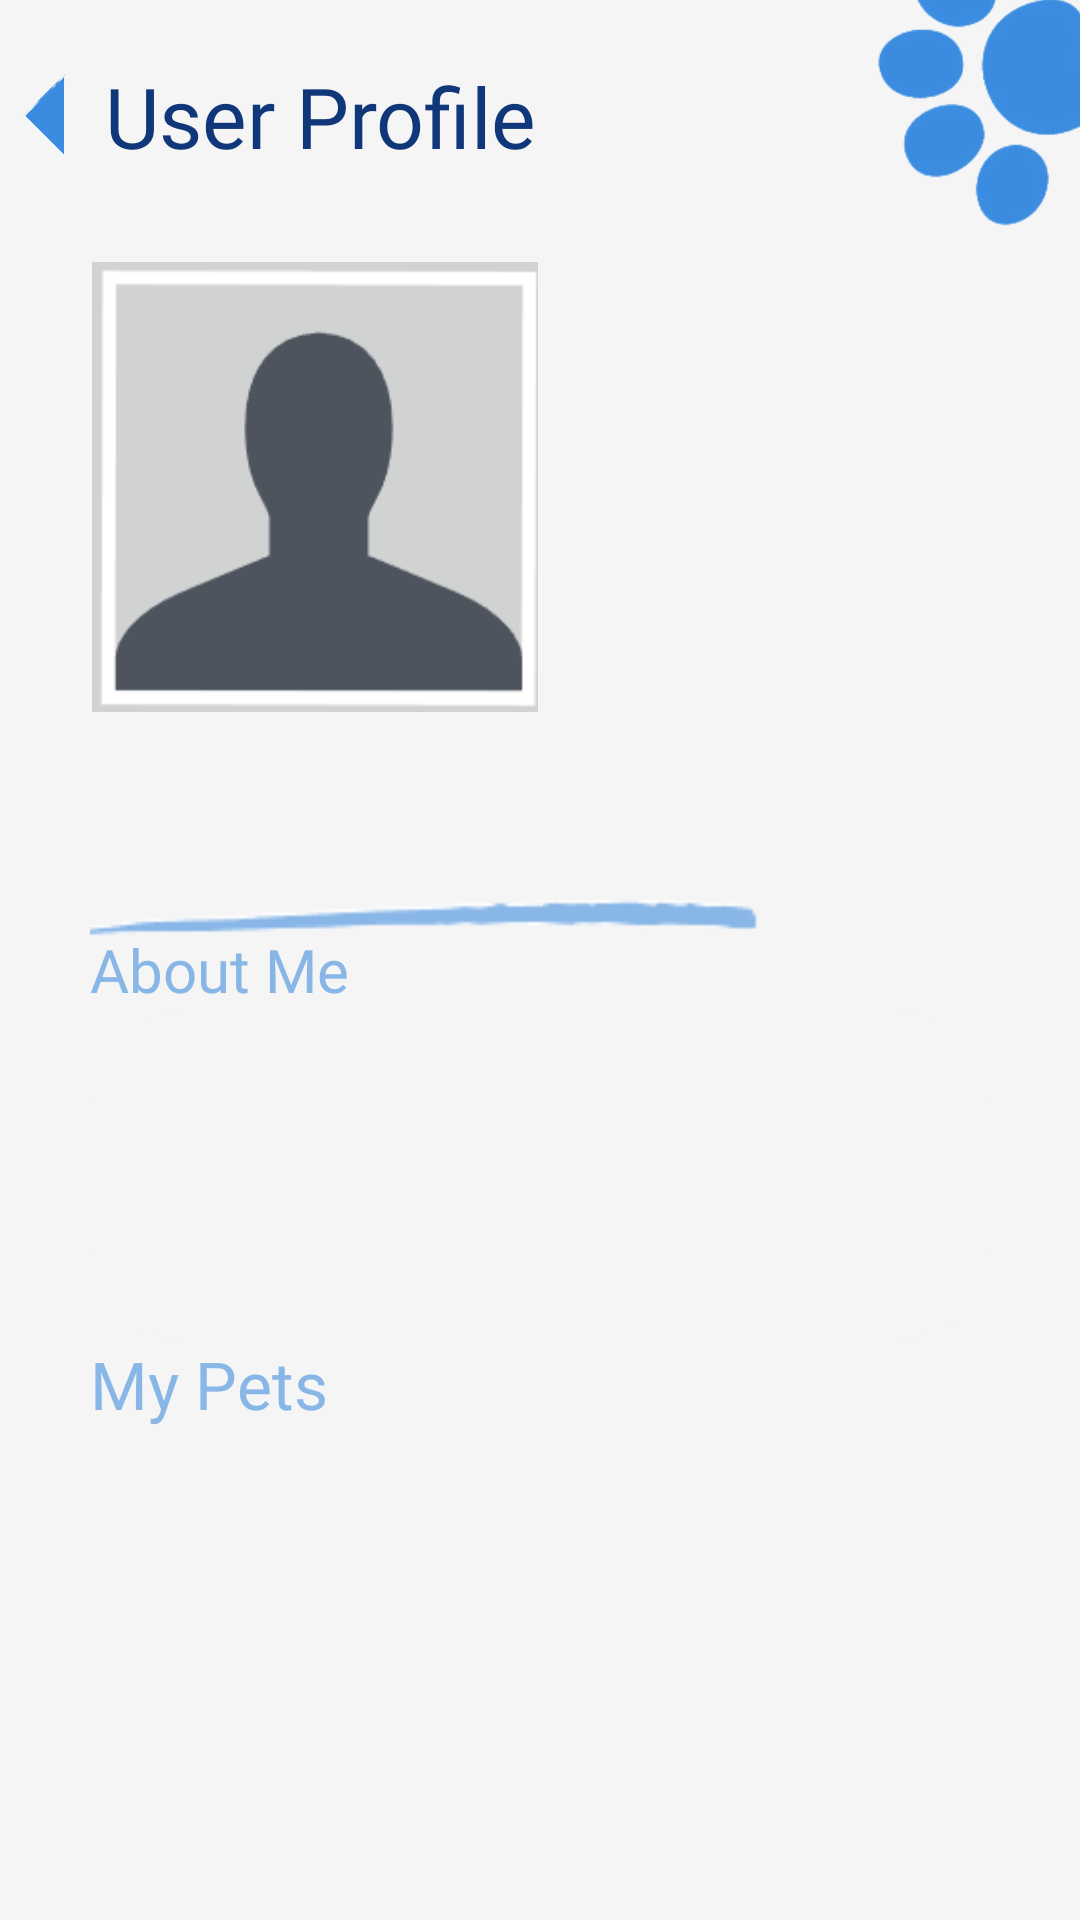

Icon bounding boxes for this 1080*1920 phone screenshot, format rect(x1, y1, x2, y2):
arrow: rect(25, 74, 65, 154)
